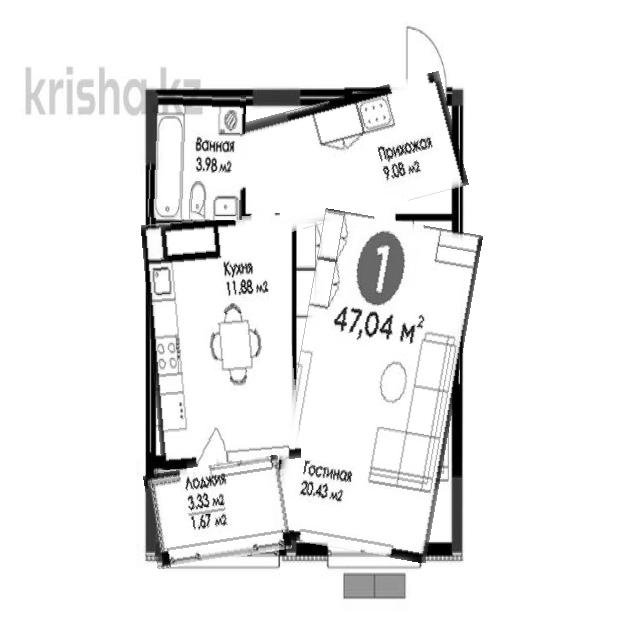balcony: (146, 459, 290, 564)
bathroom: (147, 93, 245, 220)
hallway: (240, 83, 464, 227)
kitchen: (146, 216, 296, 468)
living_room: (282, 213, 470, 558)
